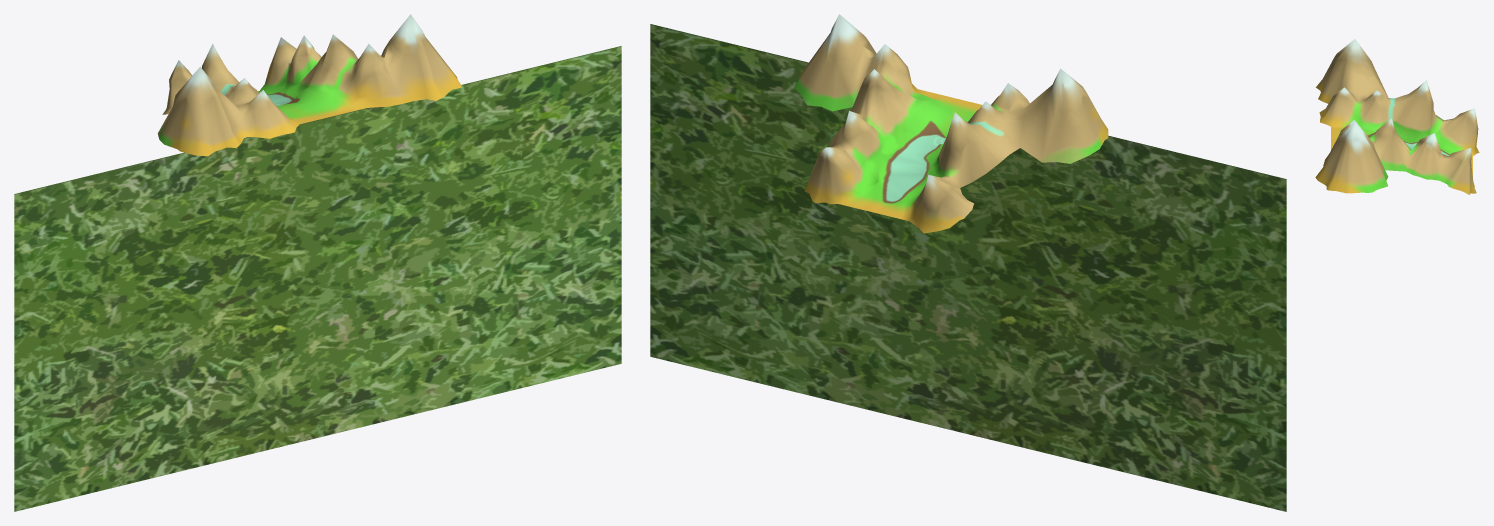
Rendered from L_Mounts 1.fbx.
The picture shows the model from 3 angles, left to right: view 1: azimuth 30°, elevation 25°; view 2: azimuth 150°, elevation 25°; view 3: azimuth 270°, elevation 25°; orthographic projection. The views are drawn at different scales.
Parts seen in each view (by area): view 1: Cylinder.001, Окружность.009; view 2: Cylinder.001, Окружность.009; view 3: Окружность.009.
Boxes of the visible parts, x1=… form: Cylinder.001: x1=14, y1=46, x2=621, y2=511; Окружность.009: x1=157, y1=14, x2=461, y2=156; Cylinder.001: x1=650, y1=24, x2=1286, y2=511; Окружность.009: x1=794, y1=14, x2=1108, y2=233; Окружность.009: x1=1315, y1=39, x2=1479, y2=194.
Bounding box in the file's own units: 200 × 122 × 57.77.
